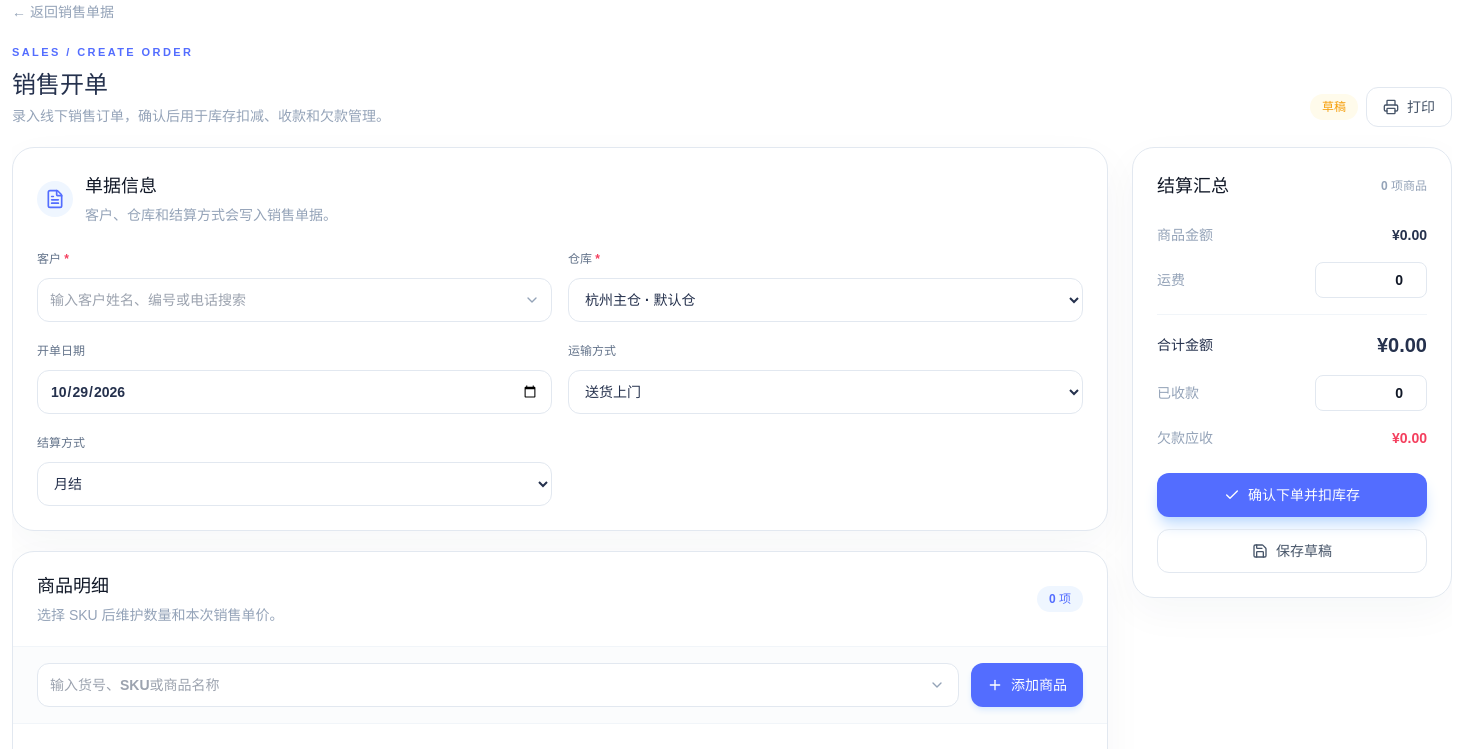
Scenario: SalesCreateView › requires a new selection after editing or clearing the selected customer
Focus the dropdown with test id "sales-customer" at (294, 300), box [37,278,552,322]
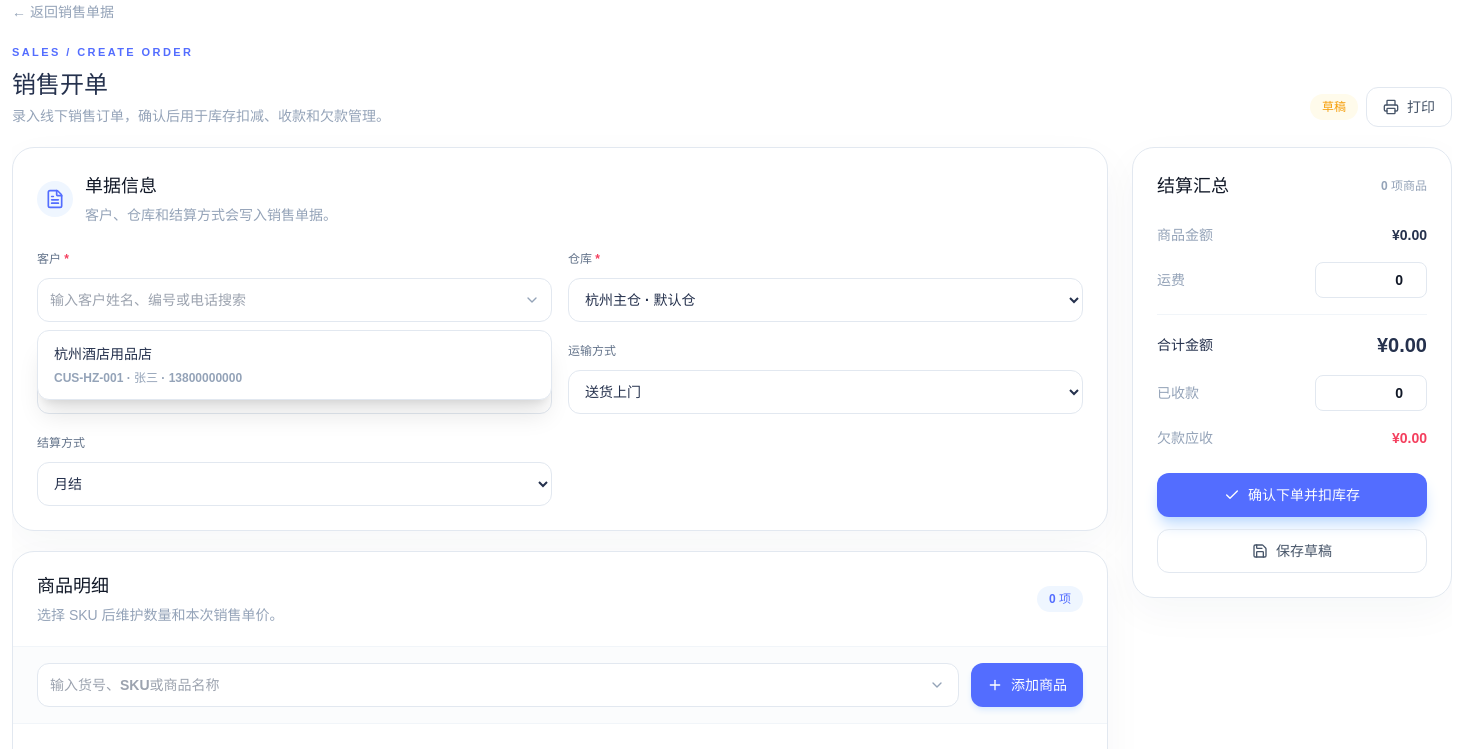
Click the option with test id "sales-customer-option-5" at (103, 354), box [42,334,547,394]
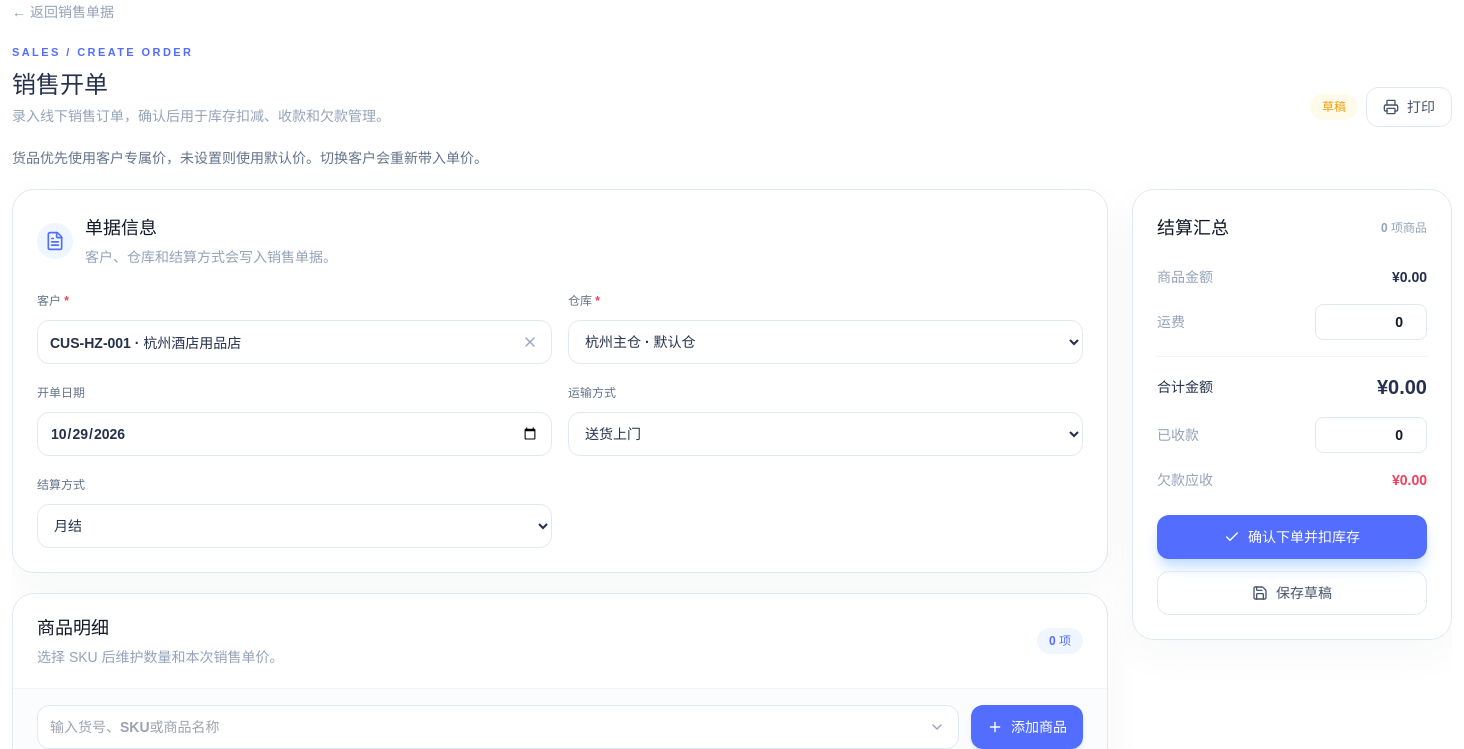
Replace the text in the dropdown with test id "sales-customer" with "不存在的客户" at (294, 342), box [37,320,552,364]
(page scrolled)
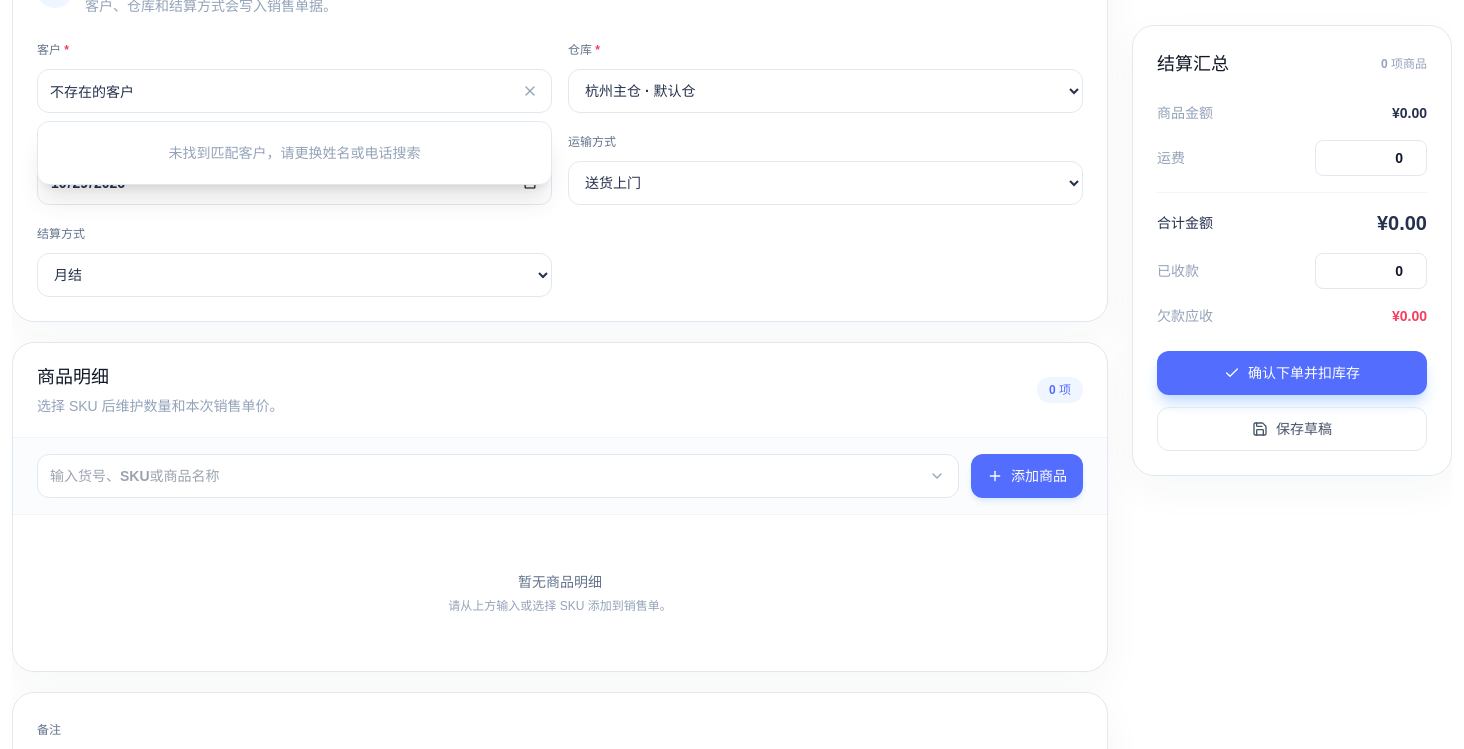
expect the message with test id "sales-customer-no-results" shows "未找到匹配客户": met, box [168,144,420,160]
Submit the form with test id "sales-order-form"
Click the button with test id "sales-customer-clear" at (530, 90), box [512,72,548,108]
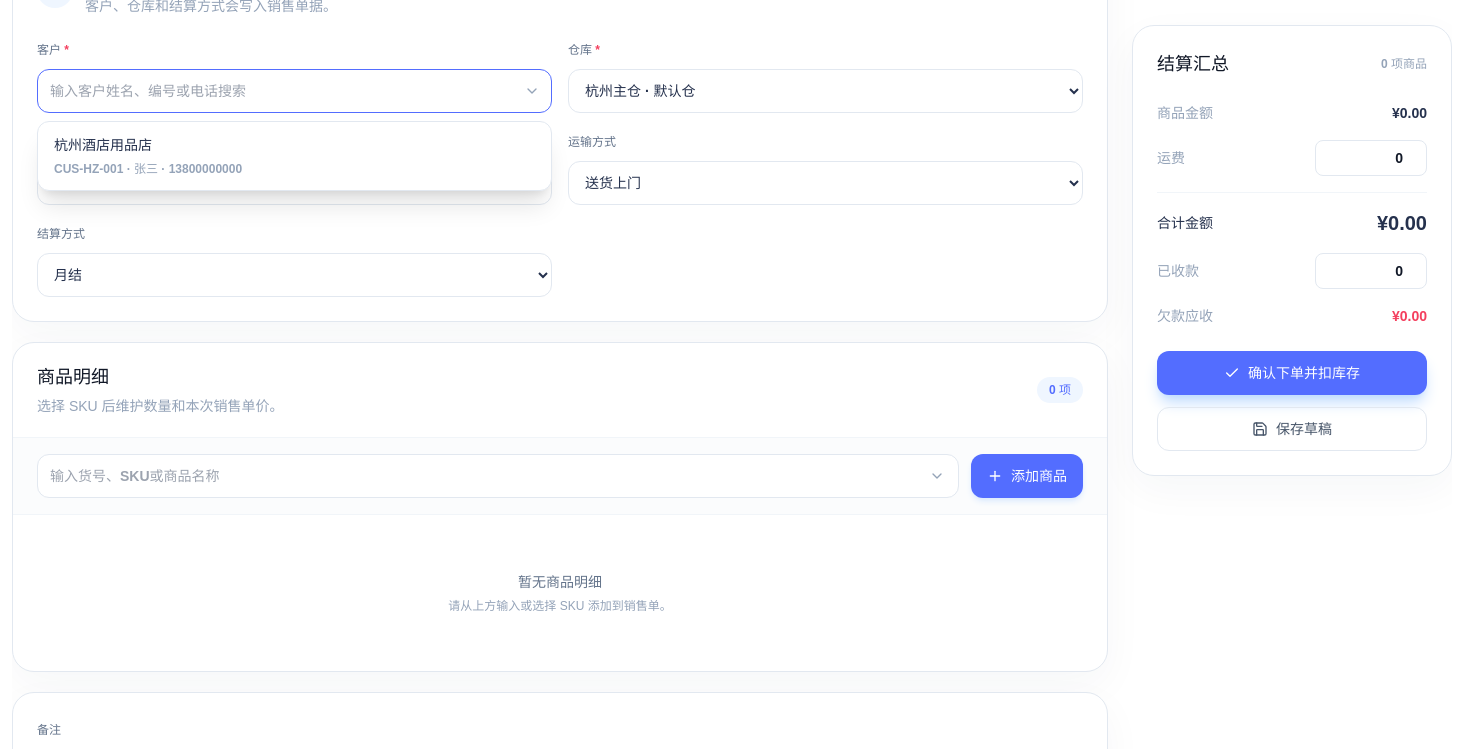
expect the dropdown with test id "sales-customer" is empty: met, box [37,68,552,112]
expect the option with test id "sales-customer-option-5" shows "杭州酒店用品店": met, box [42,126,547,186]
